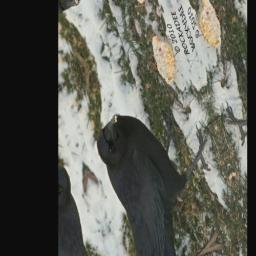Crow: (91, 63, 237, 256)
